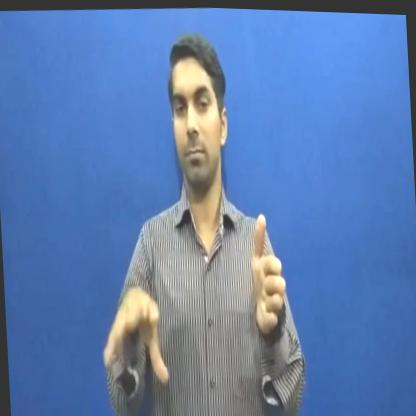Expensive: (82, 201, 299, 416)
